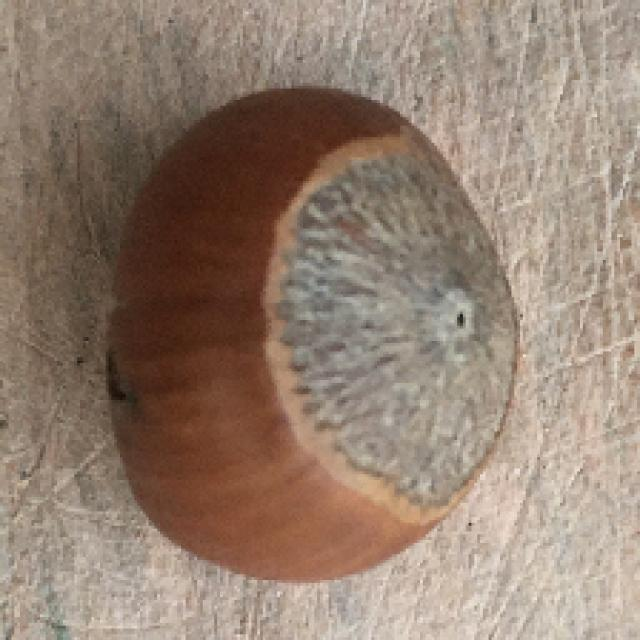damagedHazelnut: (99, 76, 526, 586)
